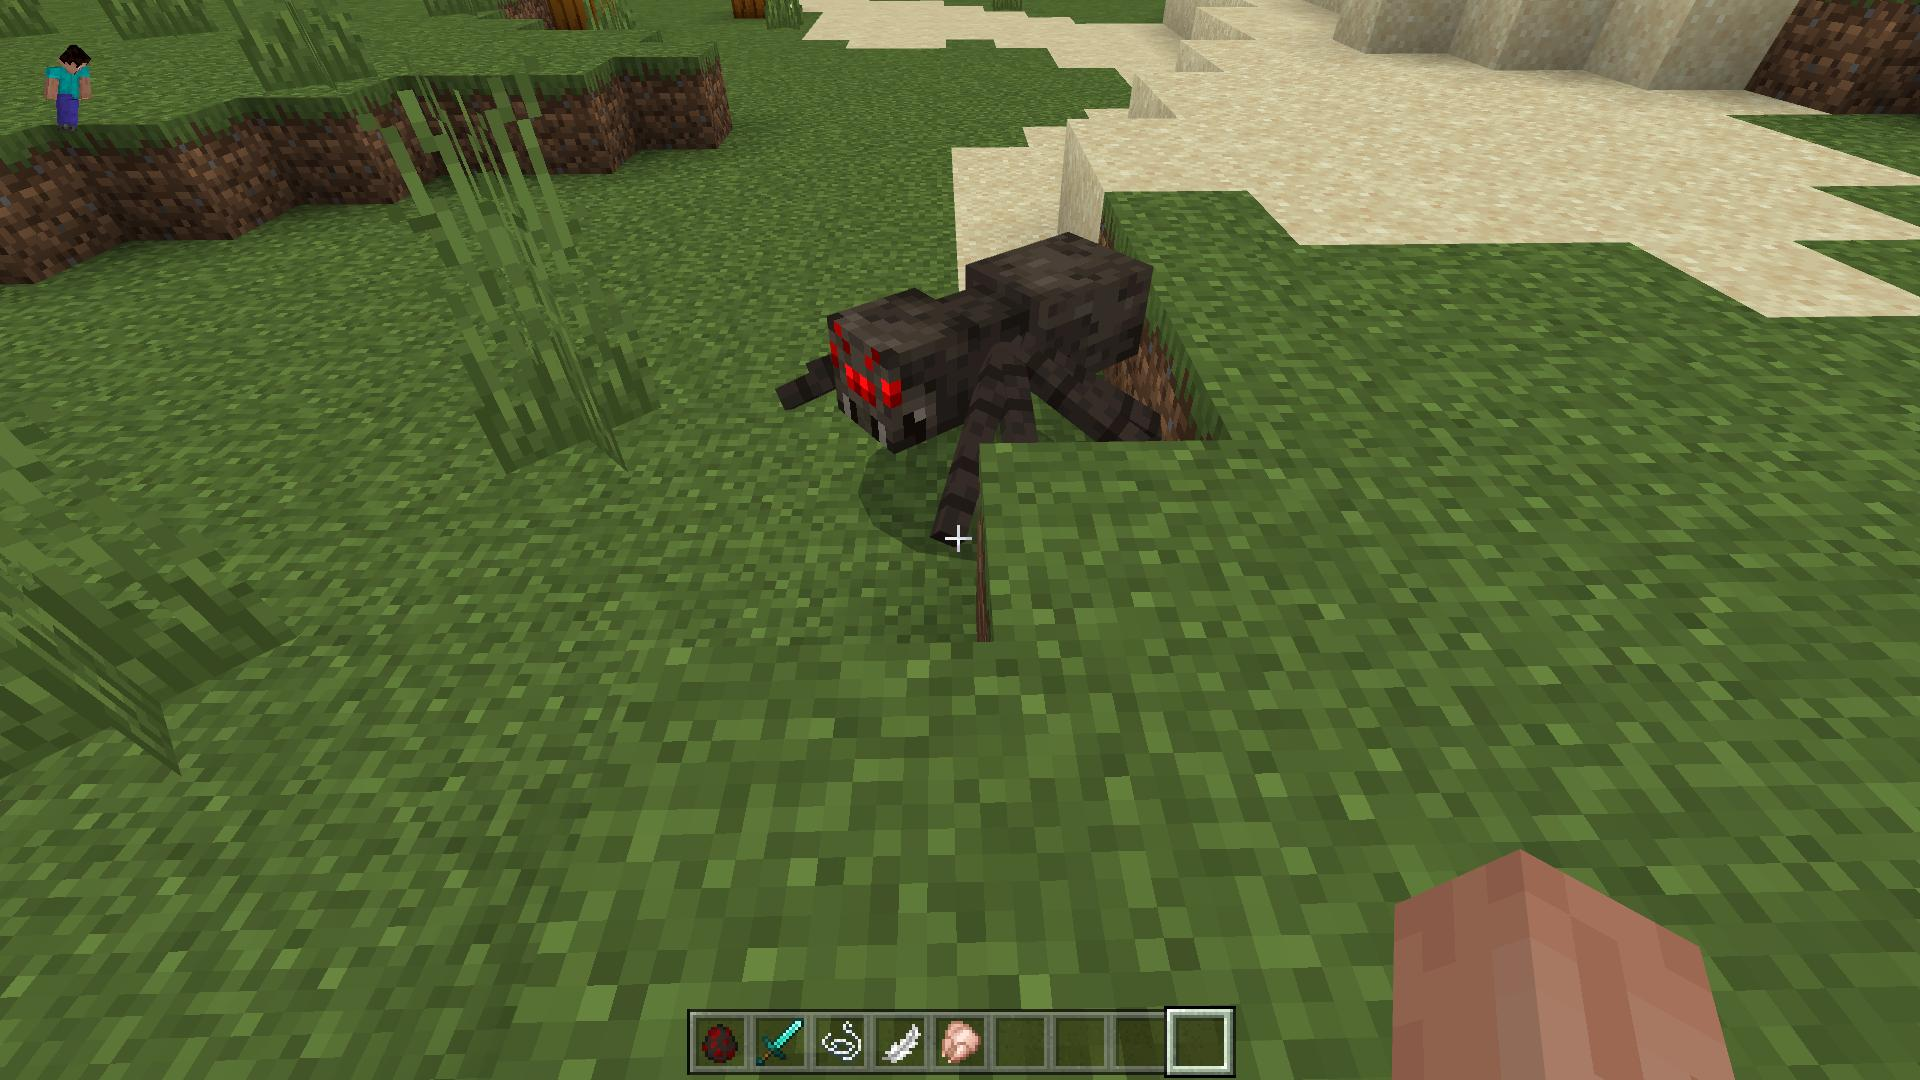spider: (778, 228, 1168, 545)
